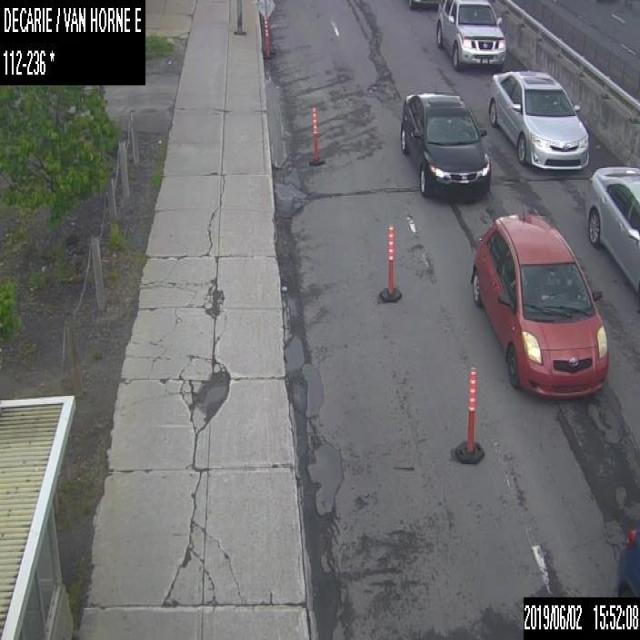construction: (464, 367, 476, 453), (385, 224, 393, 293), (310, 105, 319, 160), (262, 17, 272, 60)
vehicle: (470, 207, 609, 400), (485, 64, 590, 171), (397, 89, 490, 200), (584, 163, 639, 296), (436, 0, 506, 68), (614, 524, 639, 596), (407, 0, 440, 11)
